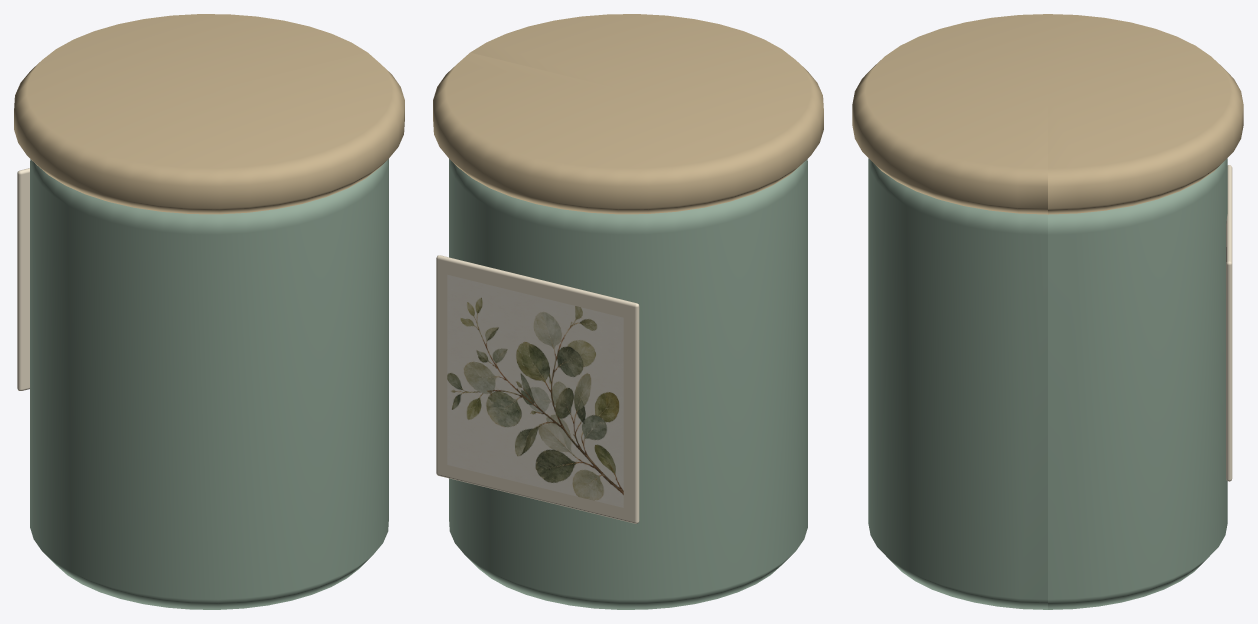
The model's file is product-off.tea.glb.
The picture shows the model from 3 angles, left to right: view 1: azimuth 30°, elevation 25°; view 2: azimuth 150°, elevation 25°; view 3: azimuth 270°, elevation 25°; orthographic projection.
Visible parts, largest first — view 1: product-off.tea; view 2: product-off.tea; view 3: product-off.tea.
Part boxes in pixels (<box>): product-off.tea: <box>14,14,404,609</box>; product-off.tea: <box>433,14,823,609</box>; product-off.tea: <box>852,14,1243,609</box>.
Bounding box in the file's own units: 0.246 × 0.312 × 0.246.
Materials: 4 (1 with a texture image).
